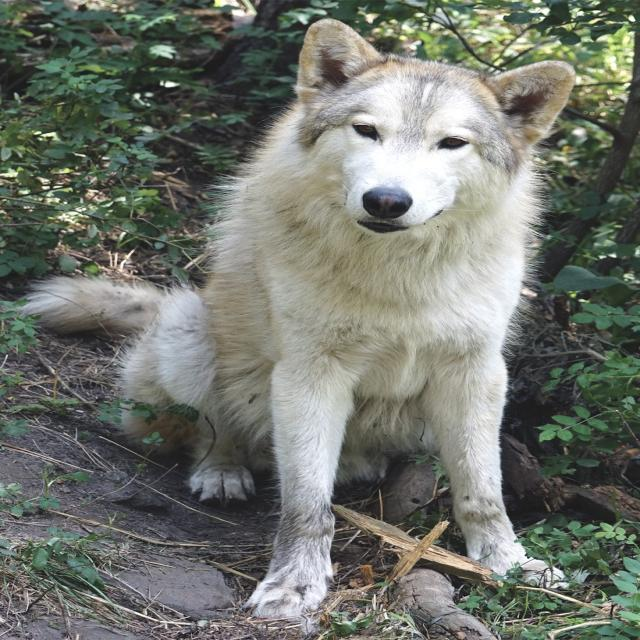Wolf: (17, 17, 576, 628)
